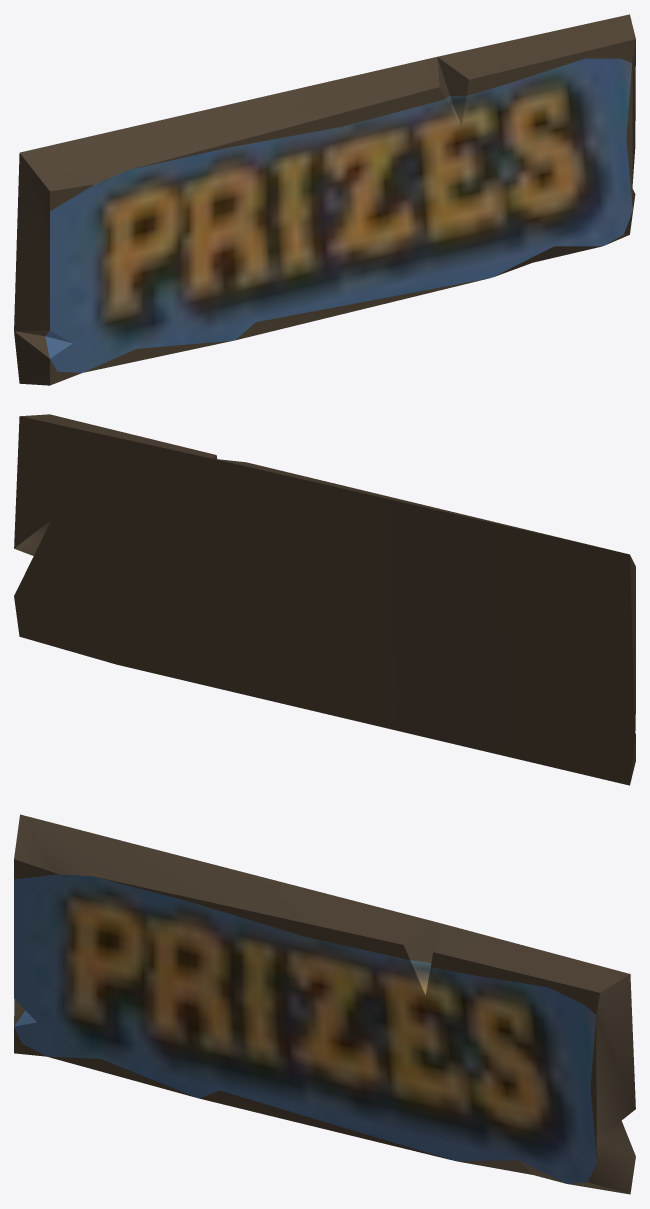
Rendered from sign-prizes.glb.
3 views of the same model, one above another, from view 1: azimuth 30°, elevation 25°; view 2: azimuth 150°, elevation 25°; view 3: azimuth 330°, elevation 25° (orthographic).
Parts seen in each view (by area): view 1: SM_Prop_Sign_Prizes_01; view 2: SM_Prop_Sign_Prizes_01; view 3: SM_Prop_Sign_Prizes_01.
Part boxes in pixels (box(x1,y1,x2,y2)): SM_Prop_Sign_Prizes_01: box(14, 14, 635, 385); SM_Prop_Sign_Prizes_01: box(14, 414, 635, 785); SM_Prop_Sign_Prizes_01: box(14, 814, 635, 1194).
Size of the model in its own units: 122 by 44.31 by 6.34.
Materials: 1 (1 with a texture image).
